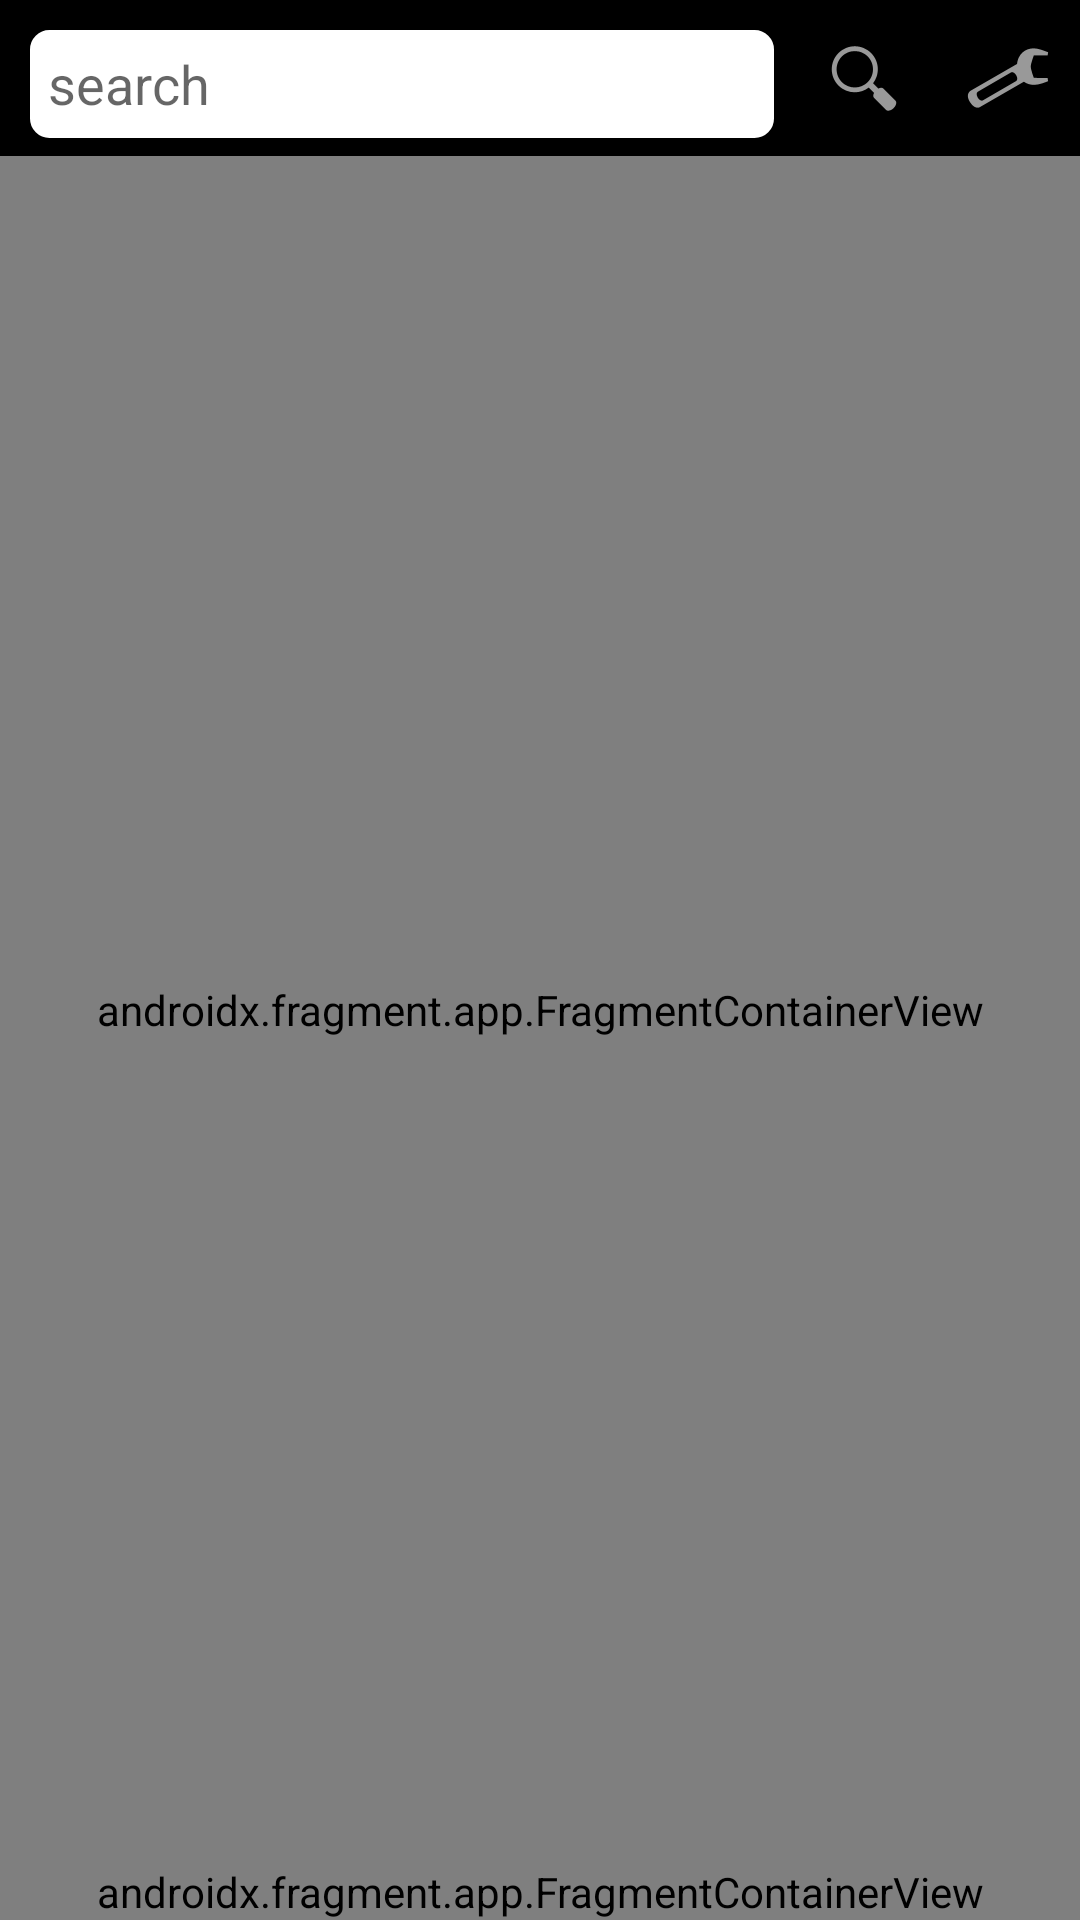

Locate icon controls on the screen. Image size 1080 x 1920, boxes as (x1, y1, x2, y2).
manage: (968, 48, 1048, 108)
